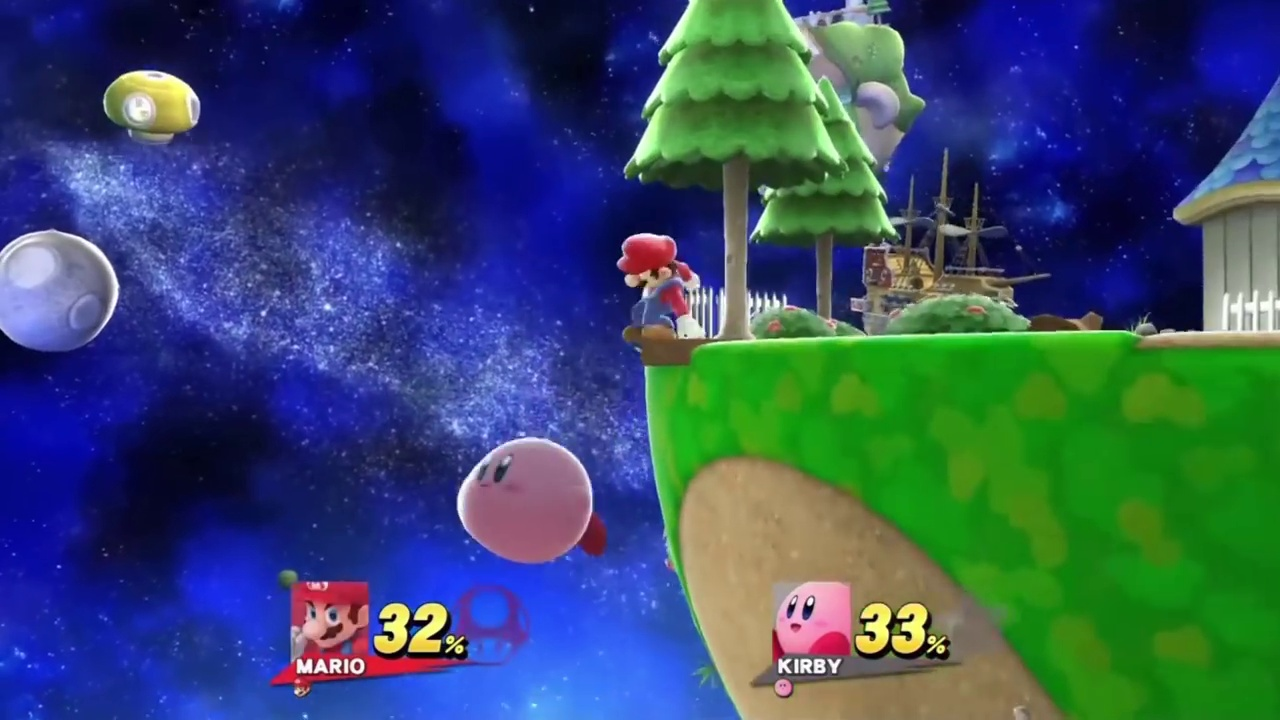Mario: (614, 233, 706, 337)
